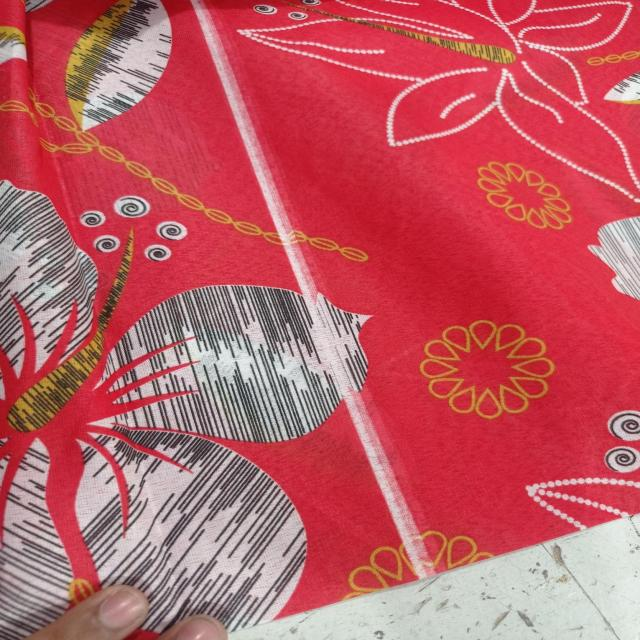selvet: (303, 287, 434, 581), (194, 3, 317, 291)
